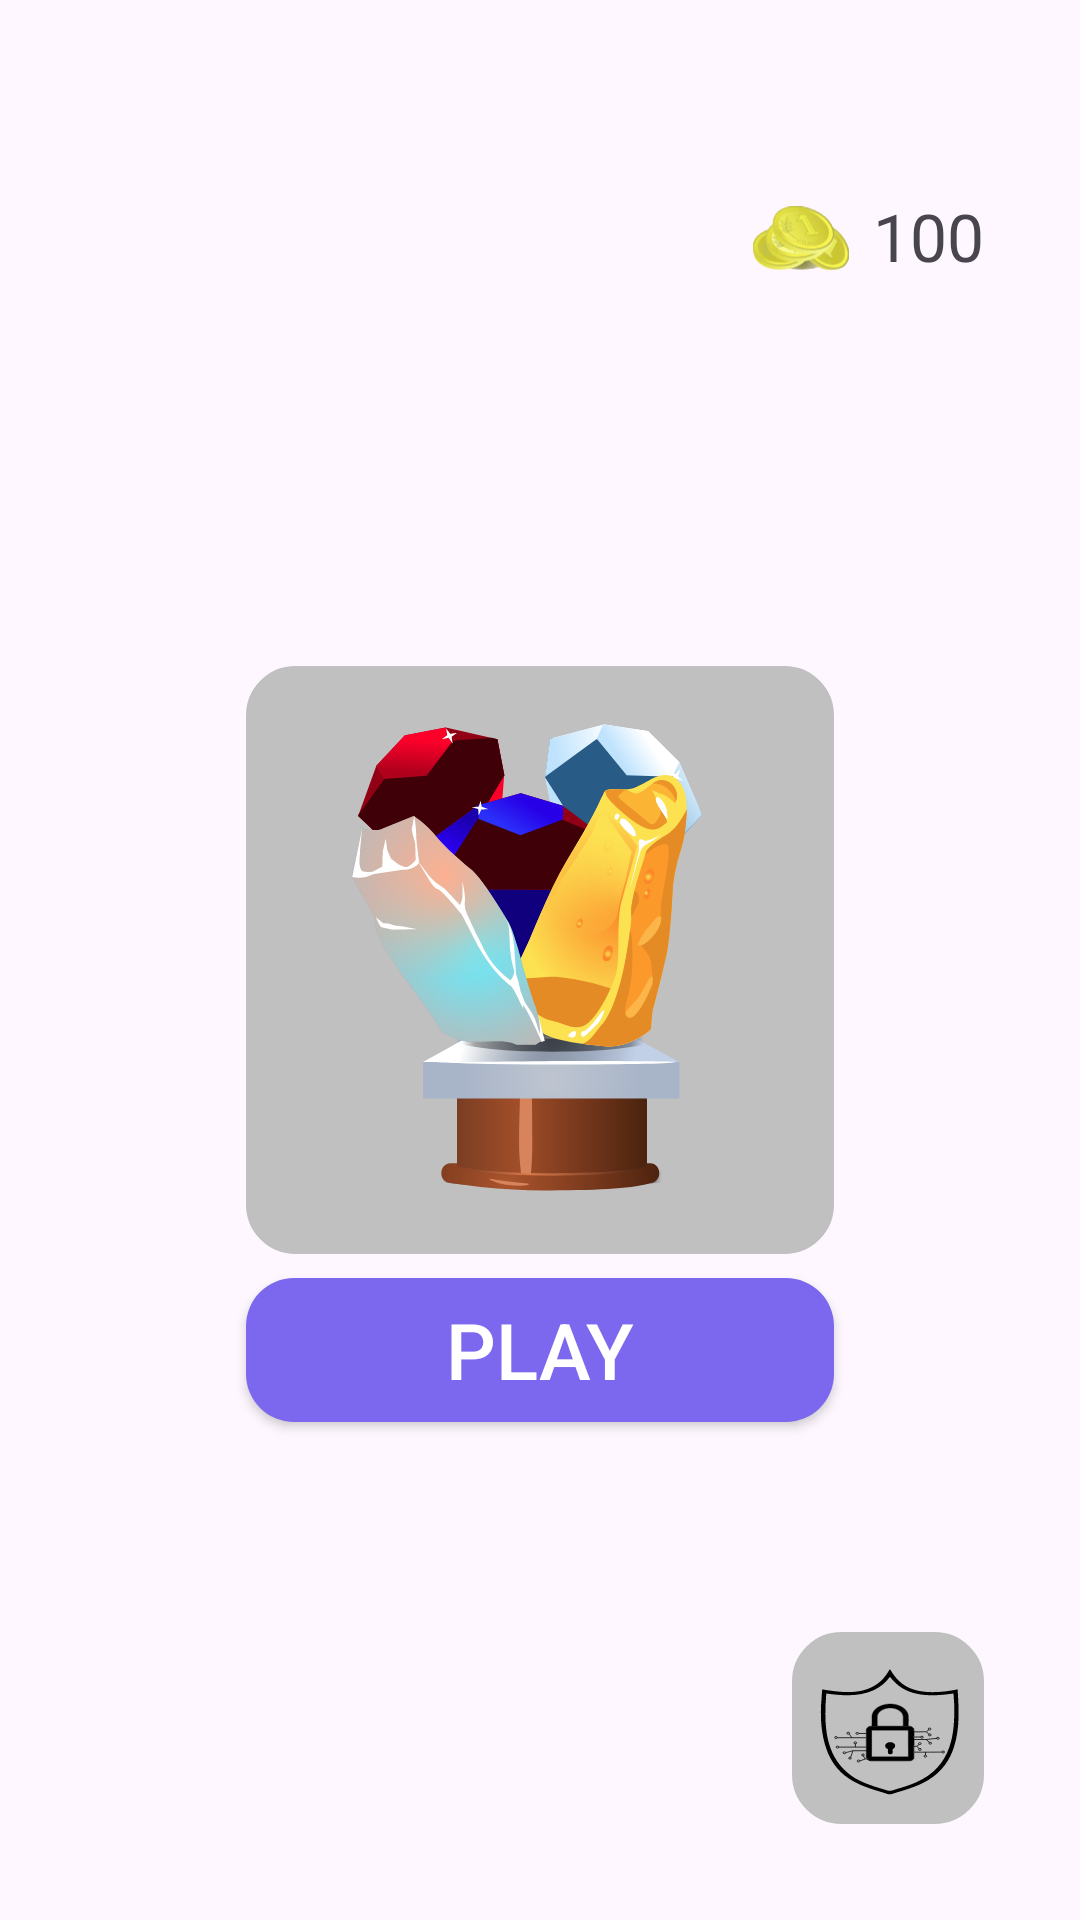

Icon bounding boxes for this 1080px×1920px phone screenshot, format bbox=[x1, y1, x2, y2]:
coin: bbox=[753, 206, 849, 270]
privacy policy: bbox=[792, 1632, 984, 1824]
